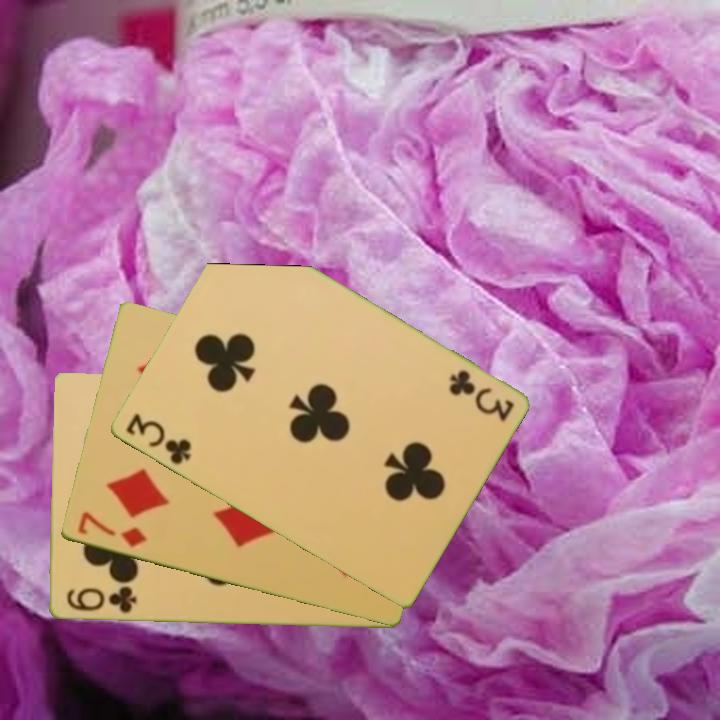3c: (121, 409, 194, 468), (445, 366, 517, 424)
6c: (63, 583, 139, 616)
7d: (73, 508, 149, 551)
